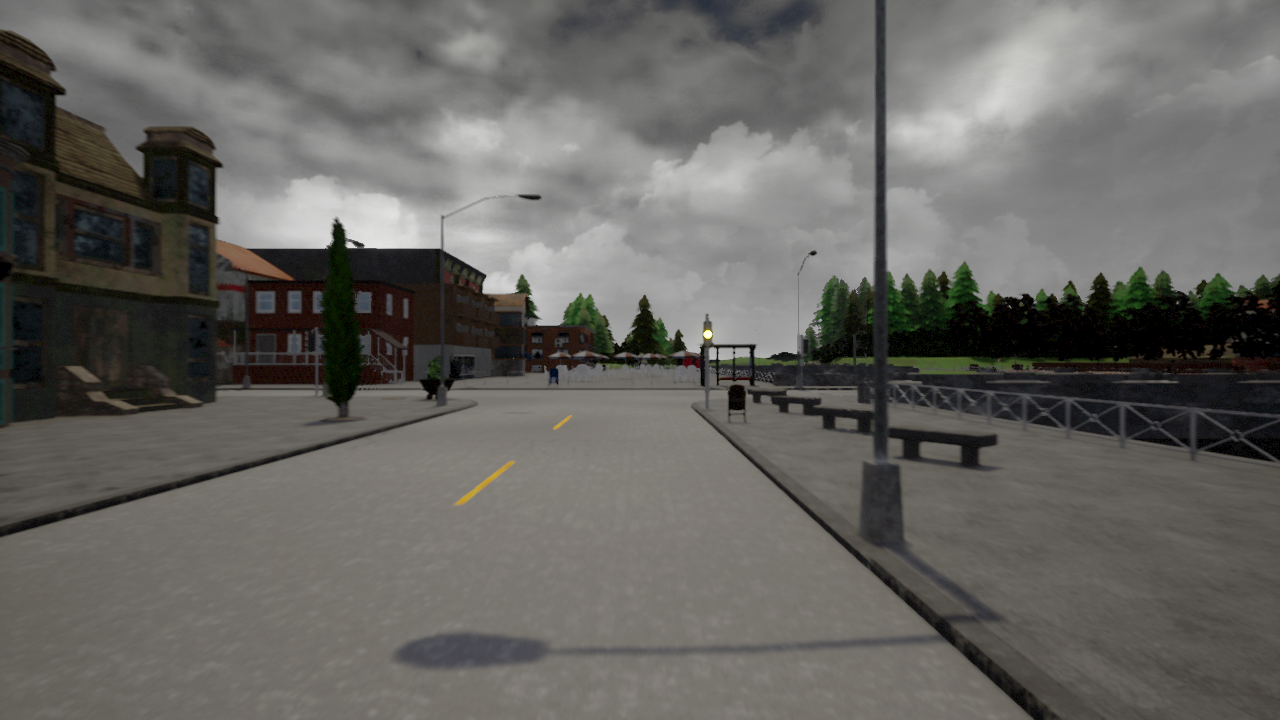yellow: (702, 320, 714, 350)
